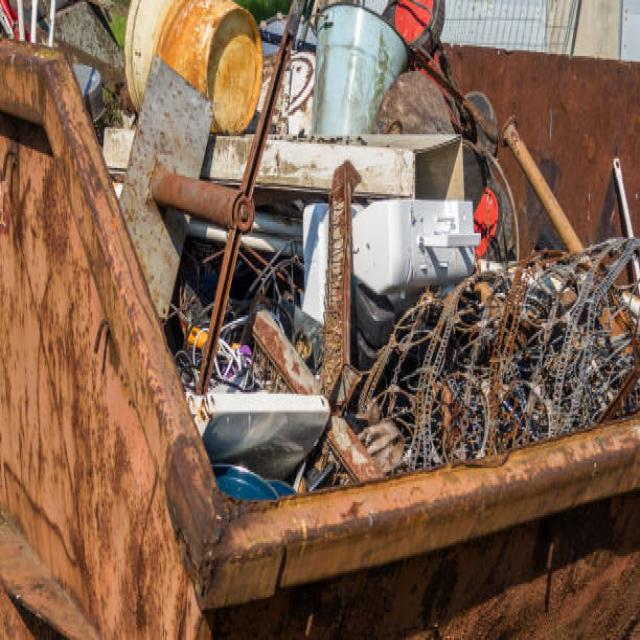metal: (150, 134, 354, 343), (400, 297, 600, 416)
